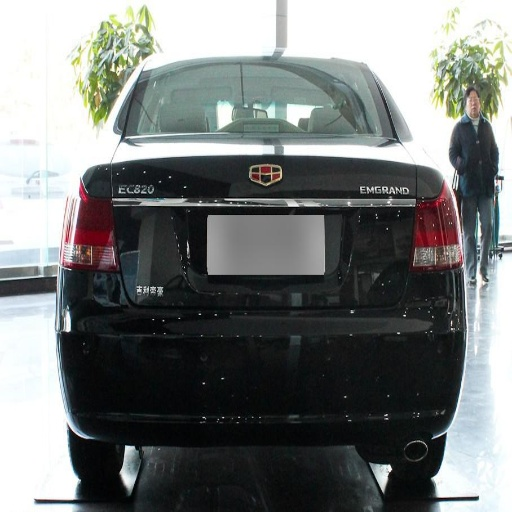back_bumper: (255, 267, 462, 445), (57, 272, 235, 440)
tailgate: (104, 135, 421, 311)
